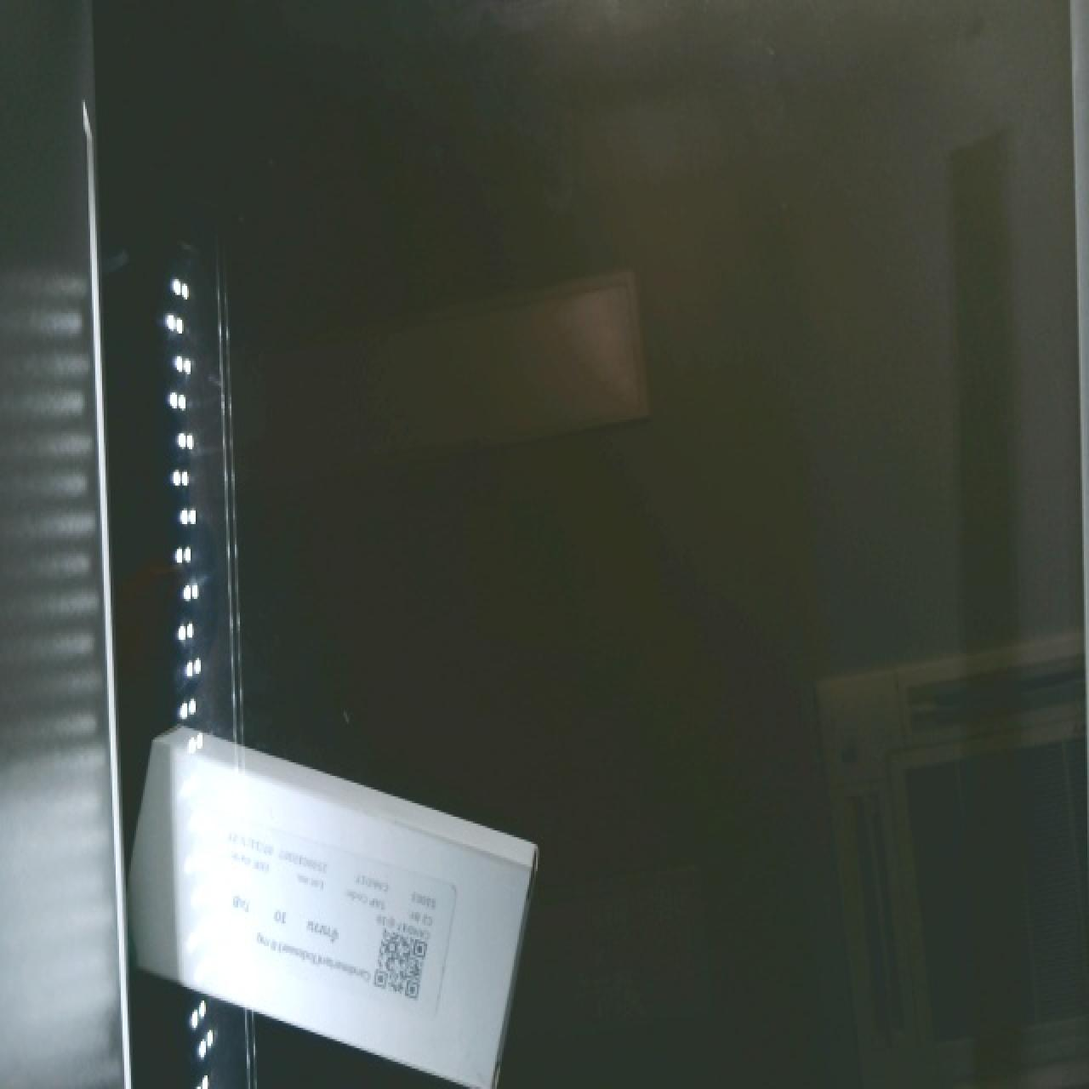qr_code: (347, 902, 459, 1017)
